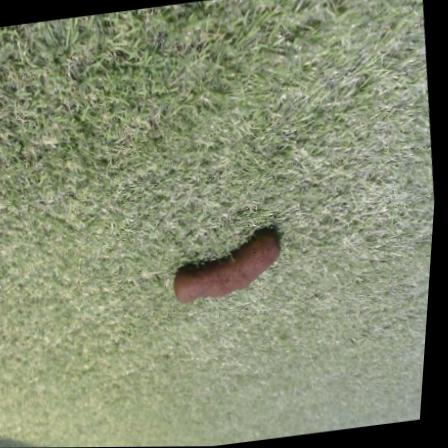dog-poop: (171, 228, 294, 309)
